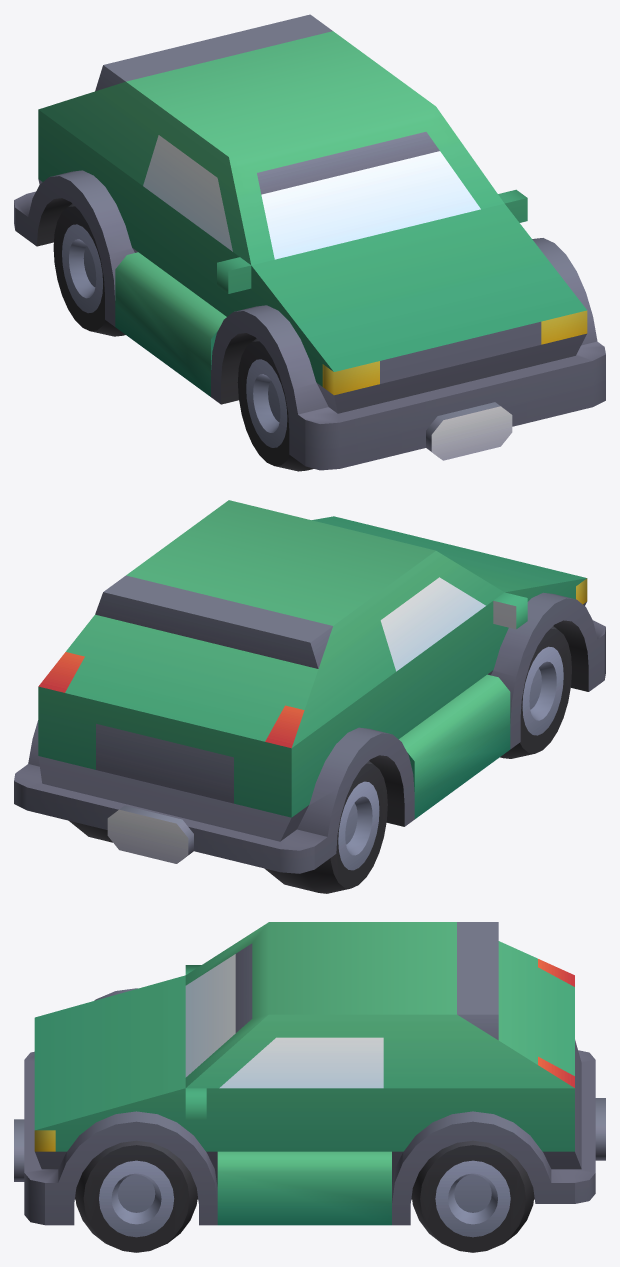
File: car_sports_hatchback.glb
The picture shows the model from 3 angles, top to bottom: view 1: azimuth 30°, elevation 25°; view 2: azimuth 150°, elevation 25°; view 3: azimuth 270°, elevation 25°; orthographic projection. The views are drawn at different scales.
Visible parts, largest first — view 1: wheel-front-right; view 2: wheel-front-right; view 3: wheel-front-right.
Part boxes in pixels (left/top/right/bottom): wheel-front-right: left=14, top=14, right=605, bottom=471; wheel-front-right: left=14, top=500, right=605, bottom=893; wheel-front-right: left=14, top=922, right=605, bottom=1252.
Bounding box in the file's own units: 1.6 × 1.3 × 3.
Materials: 1 (1 with a texture image).
